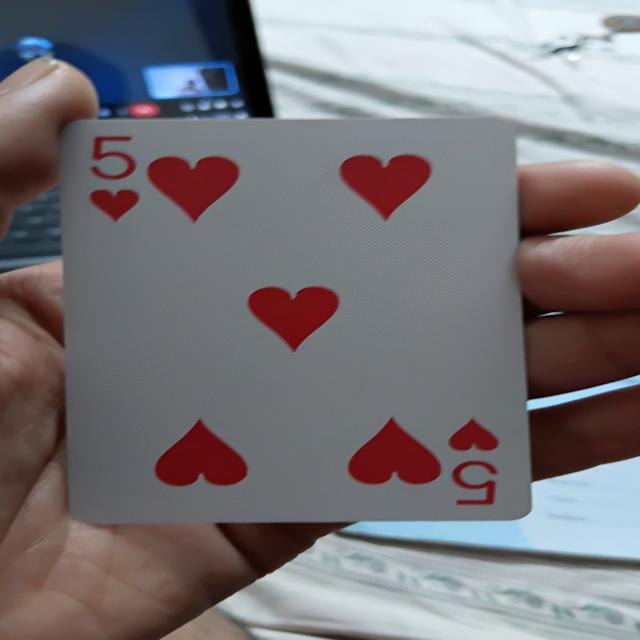5H: (50, 112, 535, 524)
